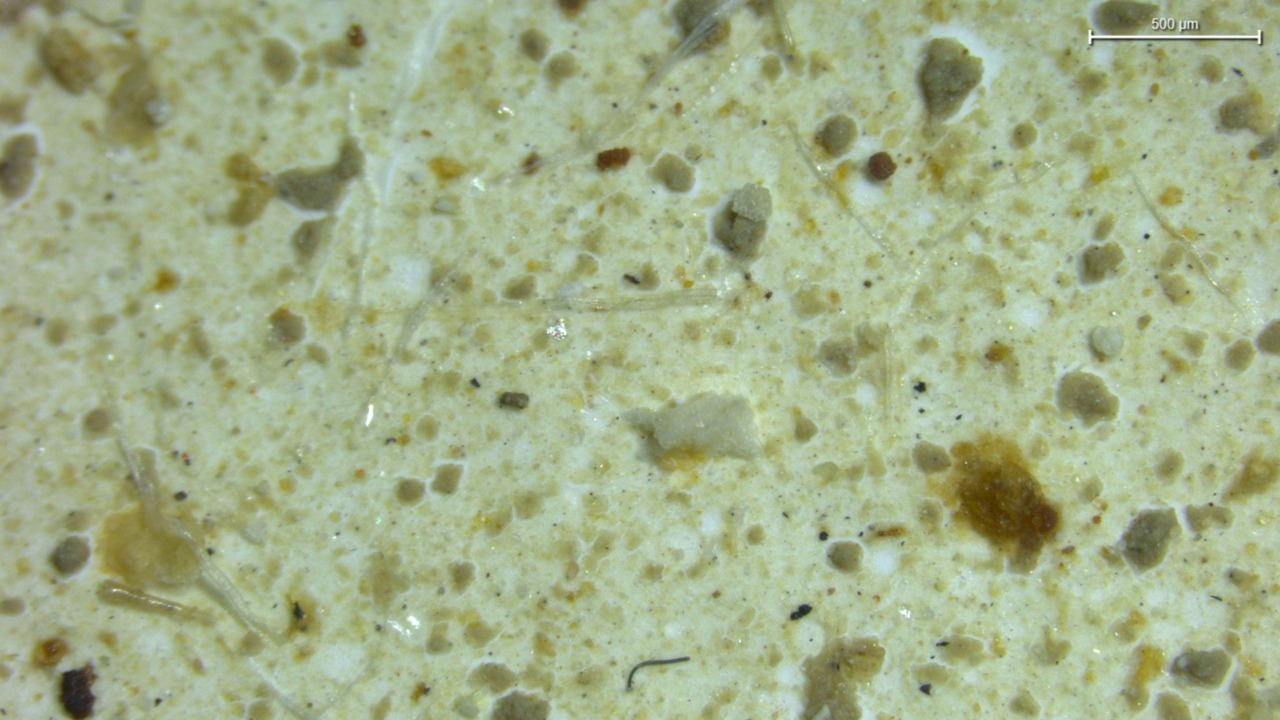microplastic_fragment: (621, 393, 761, 458), (714, 184, 772, 257), (1088, 326, 1123, 360)
